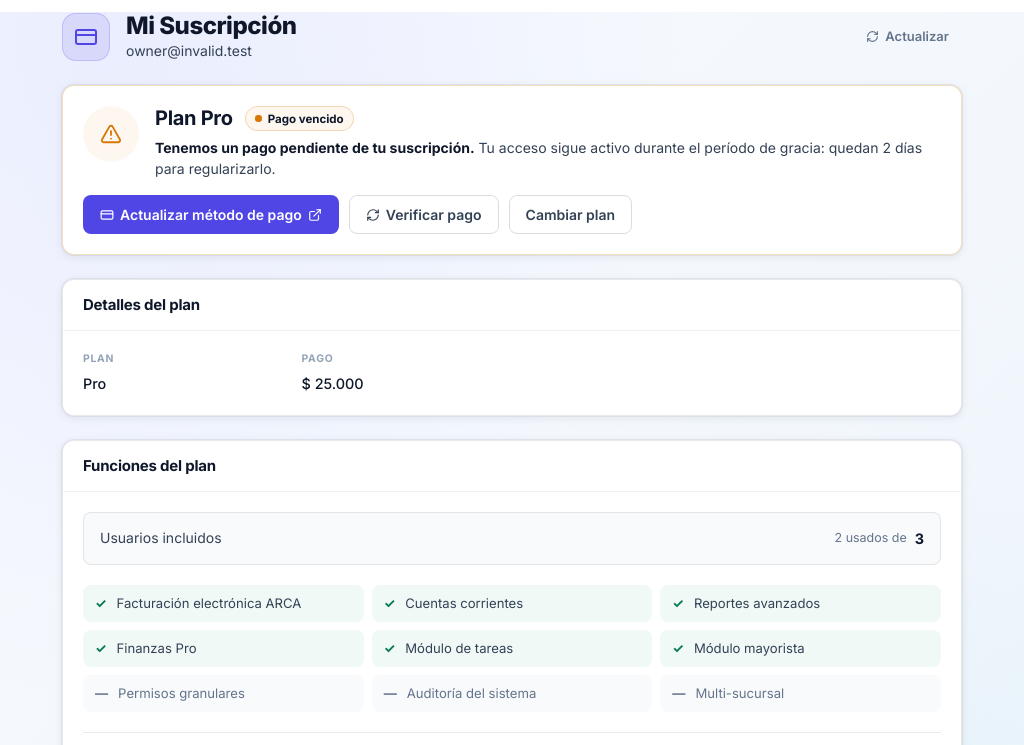
Test: pago vencido › si el servidor no puede dar el enlace, el motivo aparece junto al botón
This screenshot has width=1024, height=745.
Click the button "Actualizar método de pago".
click(211, 215)  # box left=83, top=195, right=339, bottom=234
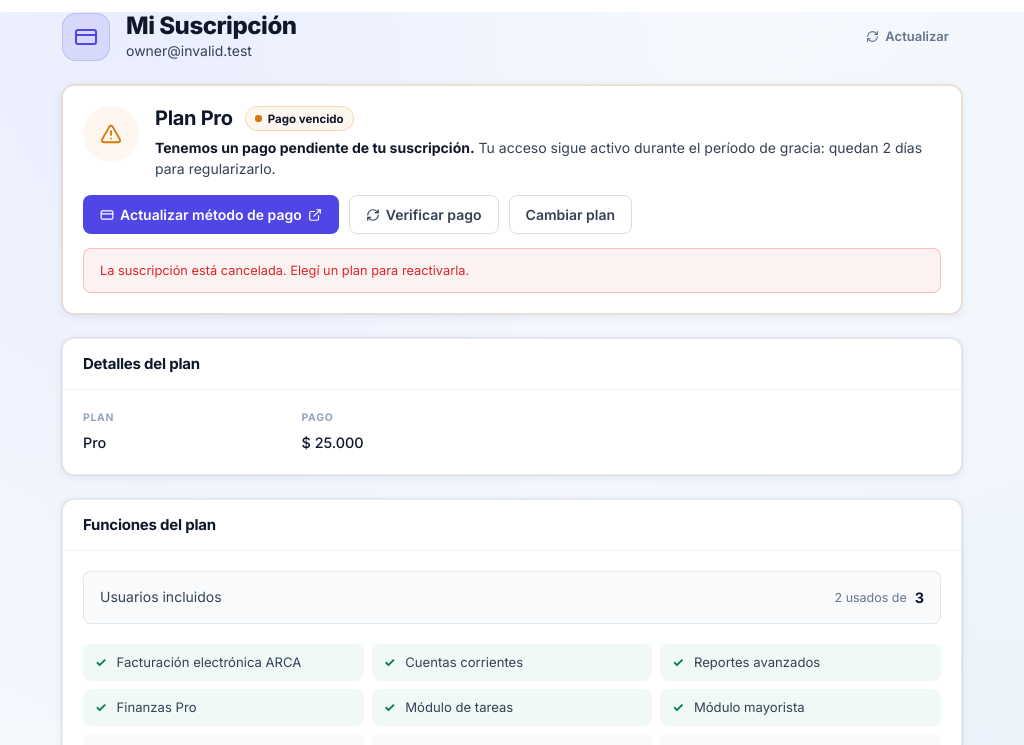
Check: the message with test id "subscription-manage-error" shows "La suscripción está cancelada.", box left=100, top=263, right=469, bottom=278
